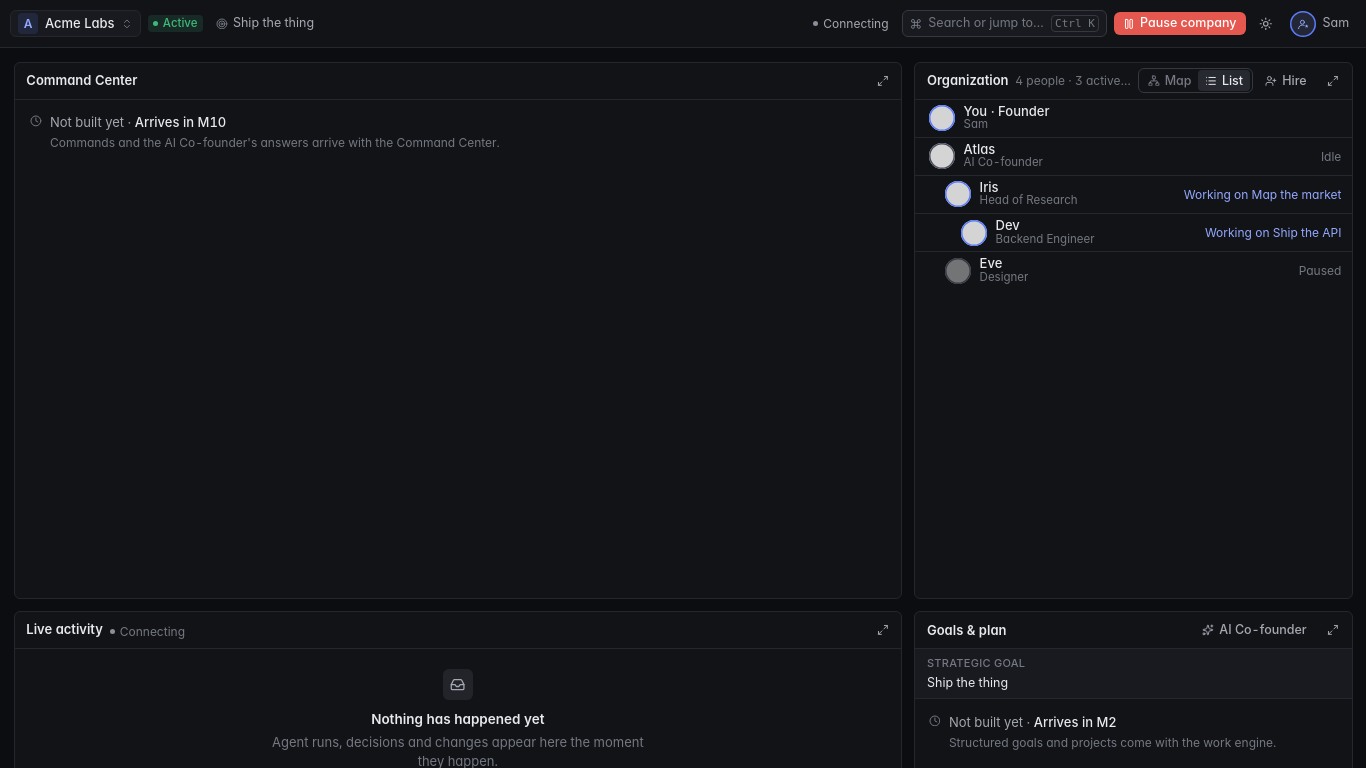
it: Organization widget: list and the Map | List toggle › a list row opens the agent panel
Expected: the element "Organization" is shown, left=914, top=62, right=1352, bottom=599
What coordinates should you click on to do the following:
click the button with aria-label "Dev,"
I would click on:
 (1045, 239)
Its box is left=915, top=214, right=1352, bottom=251.
(page scrolled)
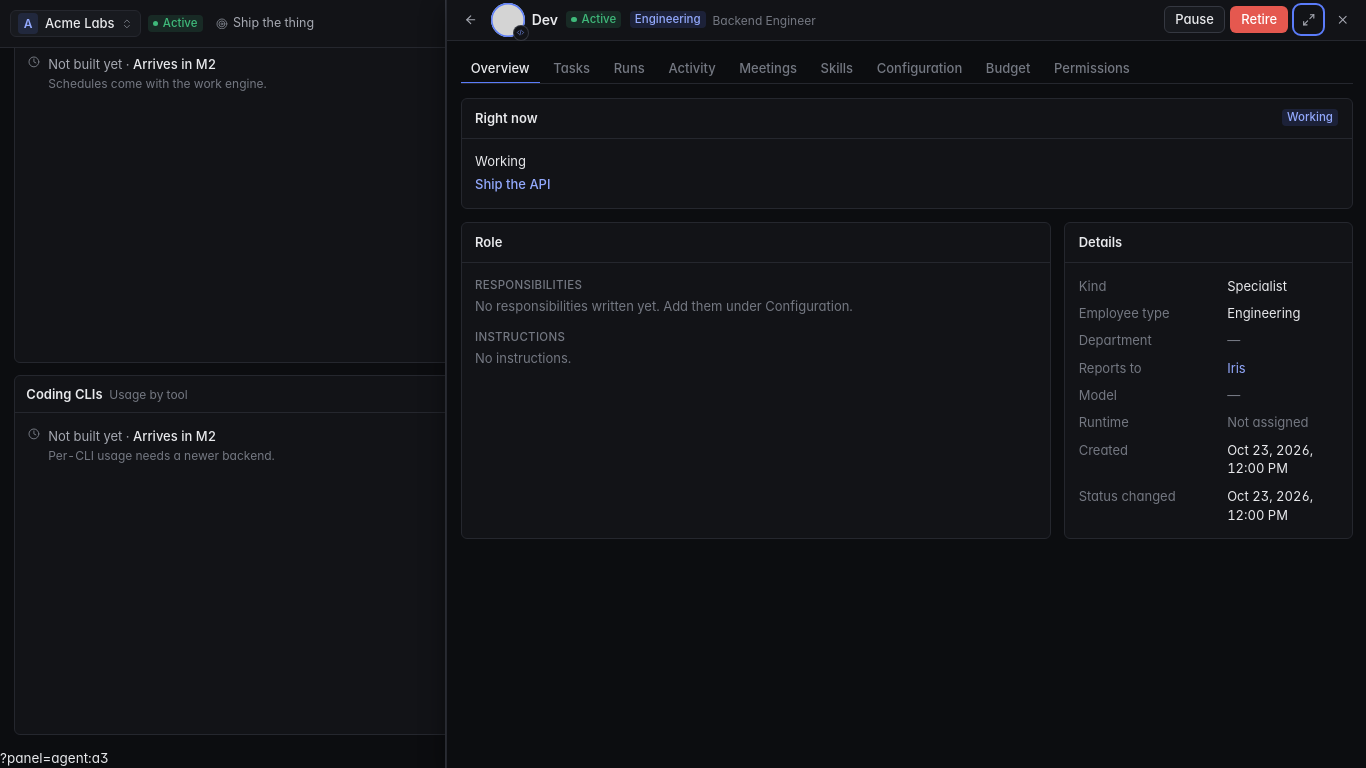
Result: the text with test id "loc" reads "?panel=agent:a3" at left=0, top=750, right=109, bottom=766
